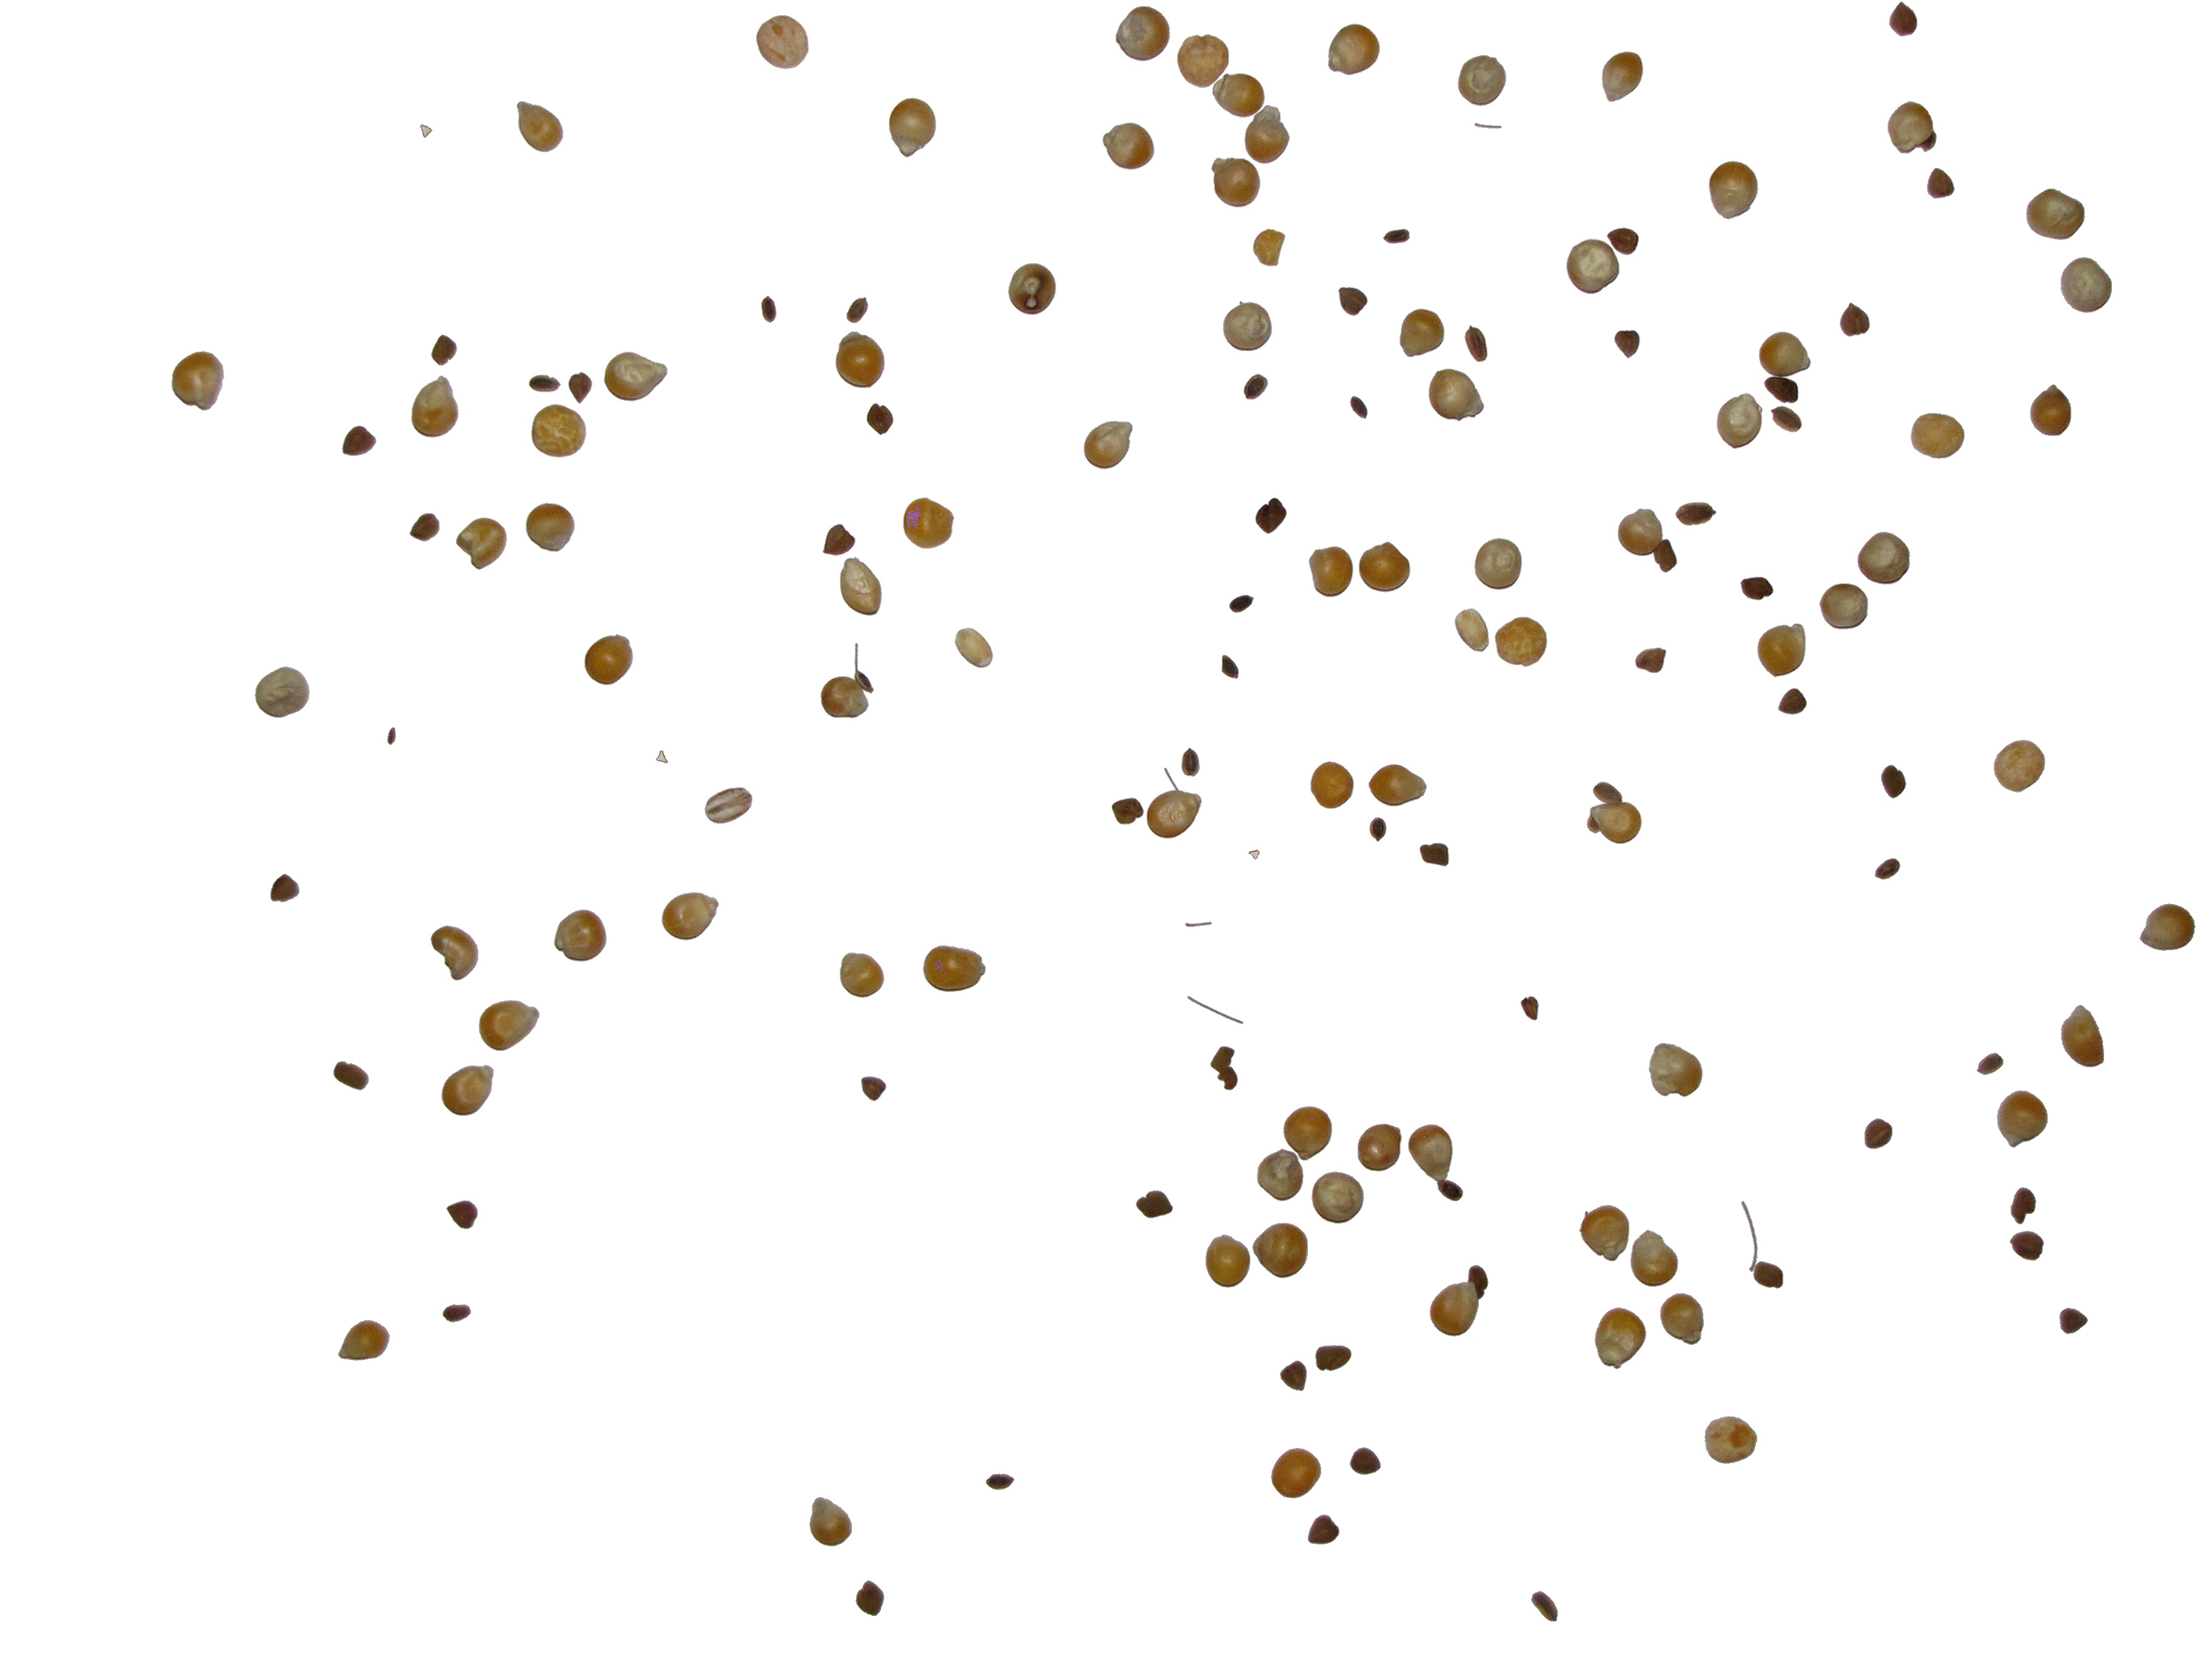buckwheat: (1211, 1047, 1238, 1089), (1256, 498, 1287, 533), (1136, 1190, 1172, 1218), (824, 525, 855, 556), (334, 1061, 369, 1089), (857, 1581, 885, 1615), (1841, 303, 1869, 336), (2010, 1232, 2043, 1260), (343, 427, 376, 455), (1764, 376, 1799, 403), (1890, 2, 1916, 37), (1676, 502, 1716, 525), (1315, 1345, 1352, 1370), (1308, 1516, 1339, 1544), (1111, 798, 1144, 824), (2012, 1188, 2036, 1223), (448, 1201, 477, 1229), (1608, 228, 1639, 254), (1881, 765, 1905, 798), (1465, 324, 1487, 359), (1339, 288, 1367, 315), (1531, 1591, 1557, 1621), (1771, 406, 1801, 432), (1280, 1361, 1306, 1391), (867, 404, 894, 434), (409, 514, 439, 540), (1928, 169, 1954, 199), (1350, 1448, 1379, 1474), (1865, 1119, 1892, 1148), (1740, 577, 1773, 599), (1778, 688, 1806, 714), (272, 875, 300, 901), (432, 335, 456, 364), (1635, 648, 1665, 673), (570, 373, 592, 403), (1420, 843, 1449, 866), (1468, 1265, 1487, 1300), (1615, 331, 1639, 357), (2060, 1309, 2087, 1333), (1244, 375, 1268, 399), (862, 1077, 887, 1101), (1977, 1053, 2003, 1075), (529, 375, 561, 392), (1876, 859, 1900, 880), (846, 298, 867, 322), (442, 1305, 470, 1323), (1183, 748, 1200, 775), (986, 1474, 1014, 1490), (1369, 817, 1386, 842), (761, 296, 777, 322), (1221, 655, 1238, 678), (1521, 997, 1538, 1019), (1230, 596, 1254, 612), (1350, 397, 1367, 418), (1383, 230, 1409, 244)
dill: (1190, 997, 1245, 1023), (1742, 1201, 1759, 1276), (1186, 922, 1212, 927), (387, 728, 395, 744), (657, 751, 667, 763), (421, 125, 432, 138), (1249, 850, 1259, 859), (1475, 124, 1501, 127)
mais: (604, 352, 667, 401), (1252, 1223, 1308, 1277), (1409, 1124, 1461, 1182), (479, 1000, 538, 1051), (1595, 1309, 1646, 1368), (1116, 7, 1170, 61), (172, 352, 223, 410), (2026, 190, 2085, 239), (411, 376, 458, 437), (923, 946, 986, 992), (1568, 239, 1620, 293), (531, 404, 585, 457), (1998, 1091, 2048, 1147), (1146, 789, 1204, 838), (1709, 162, 1757, 220), (554, 910, 606, 962), (756, 16, 808, 68), (1649, 1044, 1702, 1096), (256, 667, 310, 718), (1430, 369, 1484, 420), (2060, 258, 2111, 312), (836, 331, 885, 387), (662, 892, 719, 939), (890, 98, 935, 157), (456, 518, 507, 570), (1312, 1173, 1364, 1223), (1177, 35, 1228, 87), (1284, 1107, 1332, 1161), (1430, 1283, 1479, 1337), (1580, 1206, 1629, 1260), (1630, 1230, 1677, 1286), (1587, 798, 1644, 843), (442, 1065, 493, 1115), (904, 498, 954, 549), (1994, 741, 2045, 791), (1329, 24, 1379, 75), (1858, 533, 1909, 584), (2062, 1006, 2104, 1066), (1888, 101, 1937, 153), (1245, 106, 1289, 164), (1360, 542, 1409, 592), (1496, 617, 1547, 666), (1705, 1417, 1757, 1464), (1757, 624, 1804, 676), (432, 925, 477, 979), (1717, 394, 1763, 448), (2141, 904, 2195, 950), (1911, 413, 1965, 458), (1271, 1448, 1320, 1497), (585, 634, 632, 685), (1458, 56, 1505, 106), (1008, 263, 1055, 314), (1212, 157, 1259, 207), (1759, 333, 1811, 378), (1258, 1148, 1303, 1201), (1205, 1236, 1251, 1288), (1103, 124, 1155, 169), (1369, 765, 1426, 805), (841, 558, 881, 615), (1083, 422, 1132, 469), (526, 504, 575, 551), (1224, 301, 1271, 350), (517, 101, 563, 152), (1475, 538, 1521, 589), (1212, 73, 1264, 117), (1618, 509, 1663, 558), (1820, 584, 1867, 629), (1400, 308, 1444, 357), (1310, 547, 1353, 596), (1662, 1293, 1703, 1344), (820, 673, 866, 718), (1359, 1124, 1402, 1171), (810, 1497, 852, 1546), (2031, 385, 2071, 436), (1312, 762, 1353, 809), (1602, 52, 1642, 101), (340, 1321, 390, 1359), (841, 953, 885, 997), (1254, 230, 1285, 267)
other: (705, 788, 752, 824), (954, 627, 993, 667), (1454, 608, 1489, 652)
